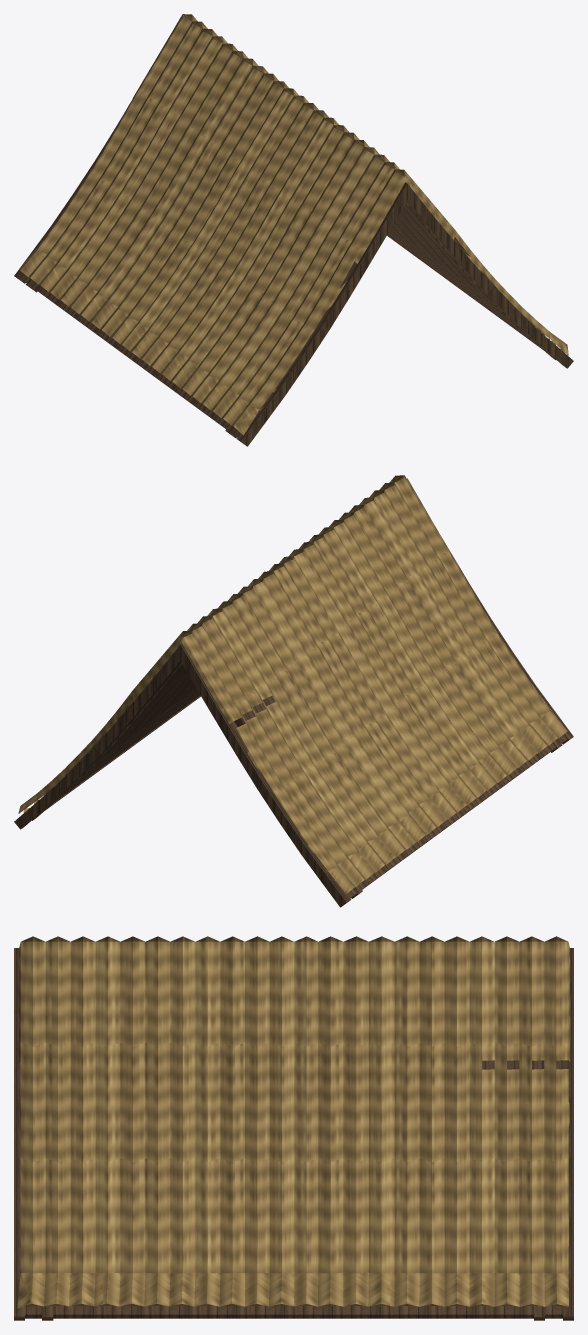
Rendered from Roof_Thatch_8x10.gltf.
3 views of the same model, one above another, from view 1: azimuth 30°, elevation 25°; view 2: azimuth 150°, elevation 25°; view 3: azimuth 270°, elevation 25° (orthographic). The views are drawn at different scales.
Parts seen in each view (by area): view 1: Roof_Thatch_8x10; view 2: Roof_Thatch_8x10; view 3: Roof_Thatch_8x10.
Boxes of the visible parts, x1=… form: Roof_Thatch_8x10: x1=14, y1=14, x2=573, y2=446; Roof_Thatch_8x10: x1=14, y1=475, x2=573, y2=907; Roof_Thatch_8x10: x1=14, y1=936, x2=573, y2=1320.
Bounding box in the file's own units: 9.95 × 6.58 × 11.71.
2 materials, 2 textured.
